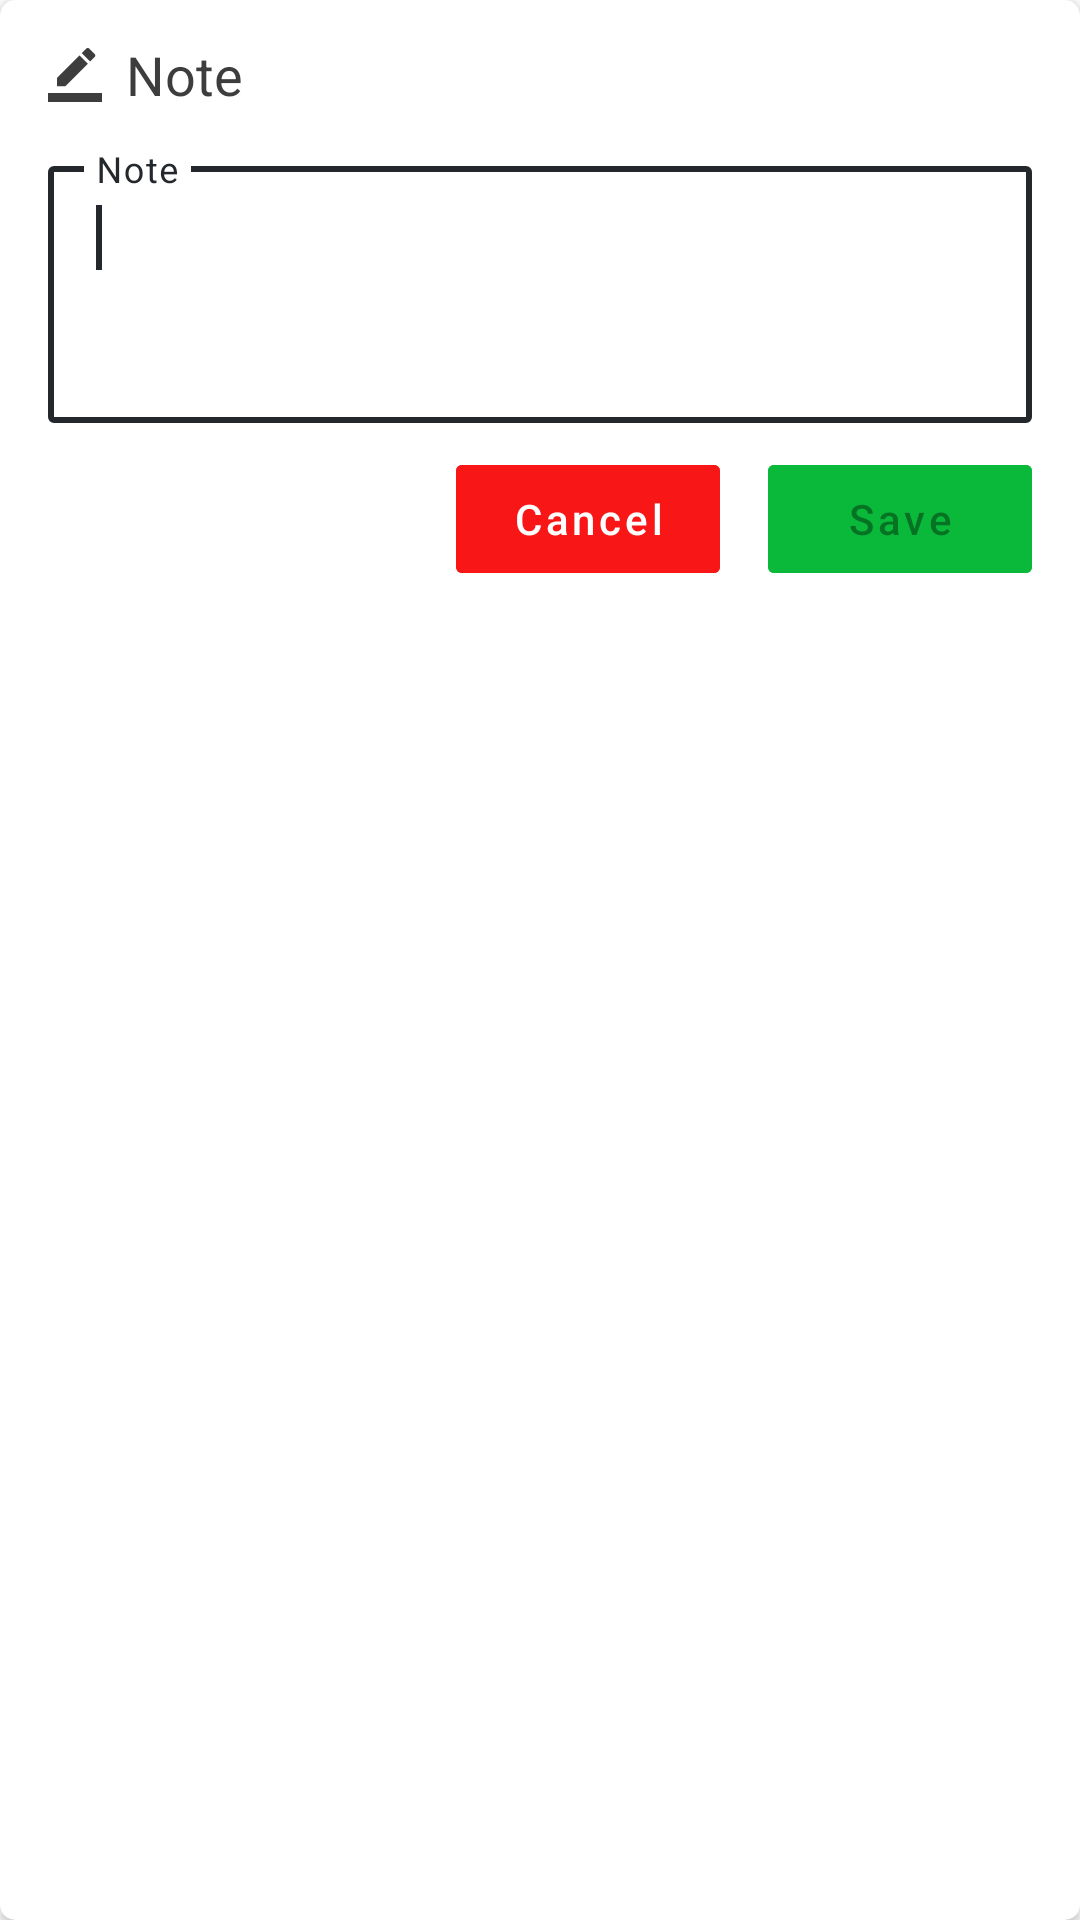

Where icons sit on this 1080 × 1920 app screen, as BBox(x1, y1, x2, y2):
edit: BBox(48, 48, 102, 102)
